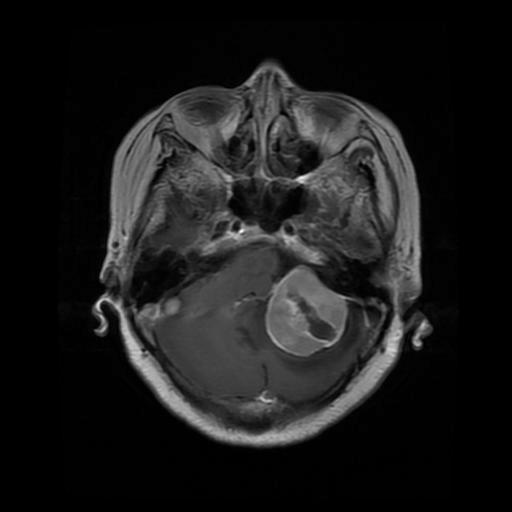Tumour-Meningioma: (258, 261, 353, 378)
